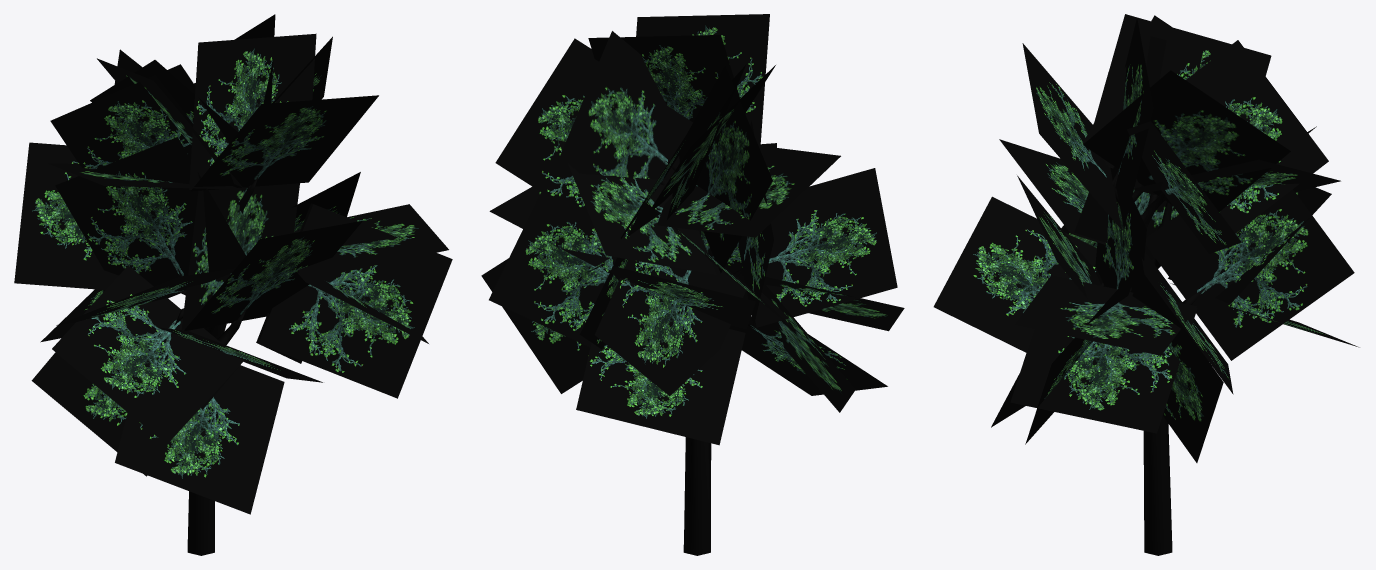
Rendered from tree67.glb.
3 renders of one model, left to right at view 1: azimuth 30°, elevation 25°; view 2: azimuth 150°, elevation 25°; view 3: azimuth 270°, elevation 25°, orthographic. The views are drawn at different scales.
Size of the model in its own units: 5.39 by 6.84 by 5.05.
2 materials, 1 textured.
